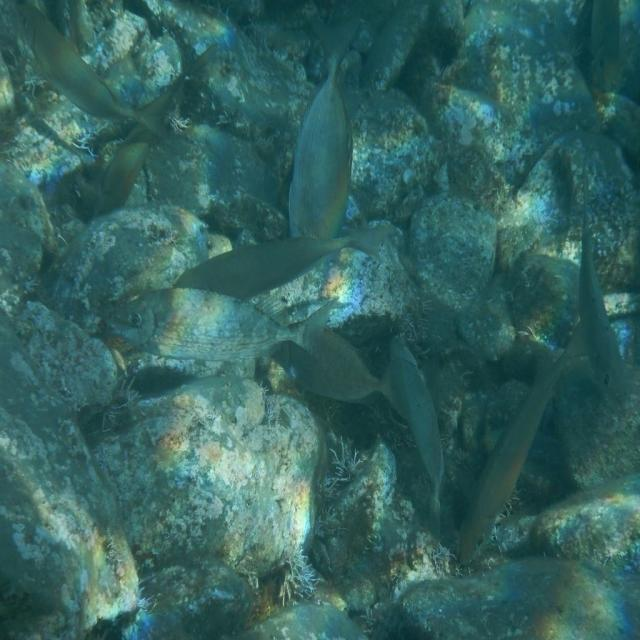Sokar Baligi: (93, 264, 350, 389)
